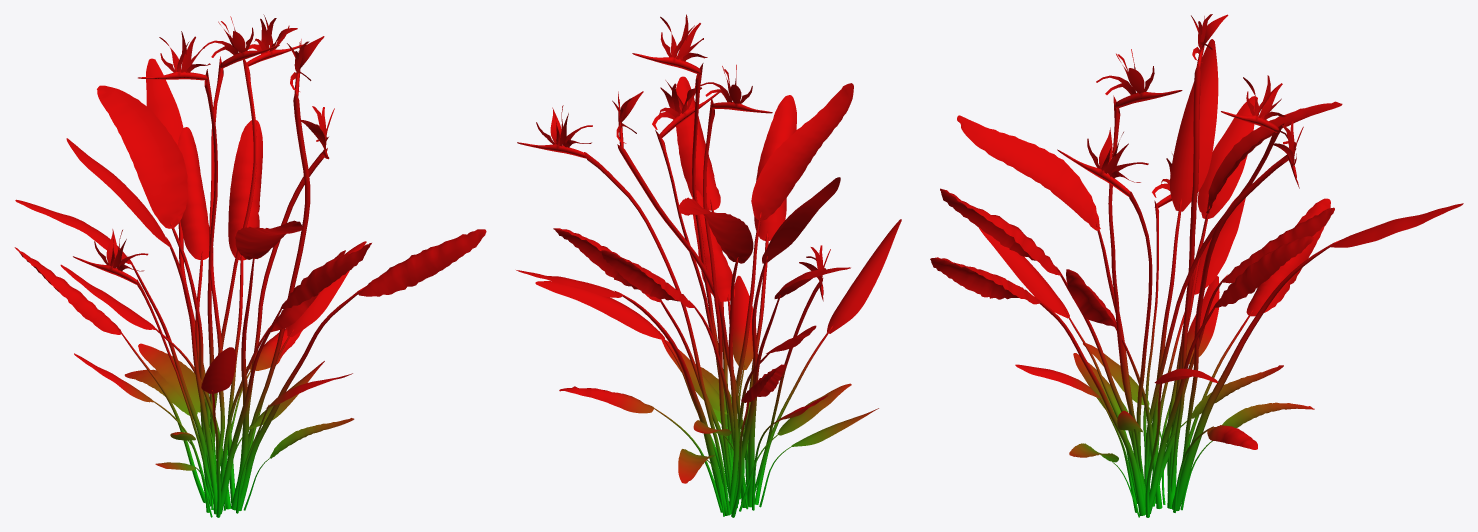
The model's file is Bird Of Paradise_LOD1_Var7_wfypeifha.fbx.
3 renders of one model, left to right at view 1: azimuth 30°, elevation 25°; view 2: azimuth 150°, elevation 25°; view 3: azimuth 270°, elevation 25°, orthographic. The views are drawn at different scales.
Visible parts, largest first — view 1: _z79t_Var7_LOD1; view 2: _z79t_Var7_LOD1; view 3: _z79t_Var7_LOD1.
Part boxes in pixels (<box>): _z79t_Var7_LOD1: <box>14,14,486,517</box>; _z79t_Var7_LOD1: <box>516,14,901,517</box>; _z79t_Var7_LOD1: <box>930,14,1463,517</box>.
Bounding box in the file's own units: 133 × 178 × 175.
